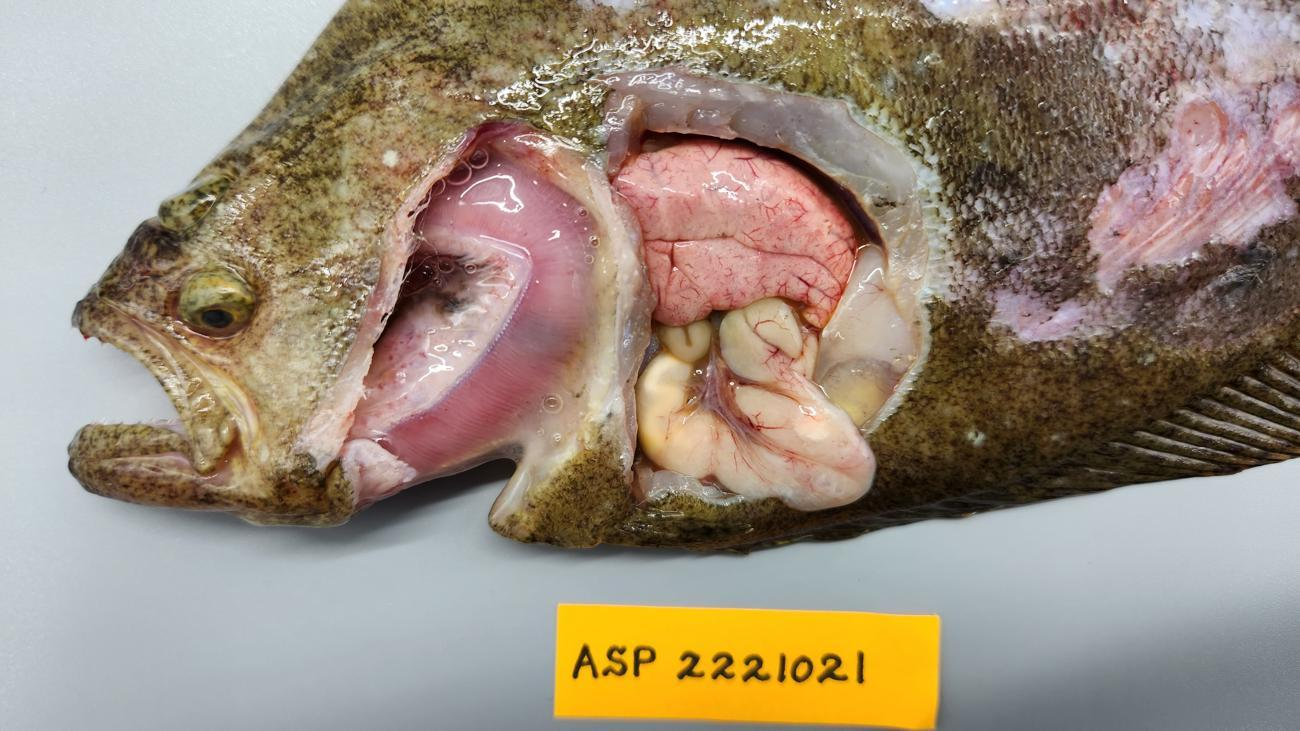SPGIP: (379, 162, 599, 472)
